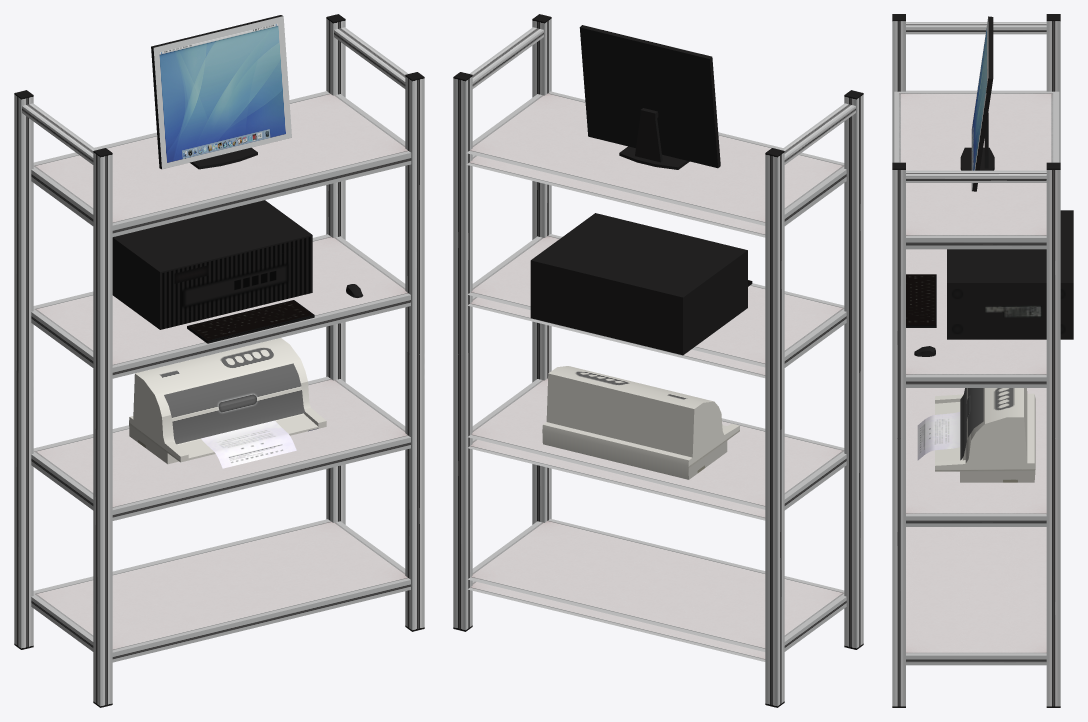
The model's file is tiejia03.FBX.
The picture shows the model from 3 angles, left to right: view 1: azimuth 30°, elevation 25°; view 2: azimuth 150°, elevation 25°; view 3: azimuth 270°, elevation 25°; orthographic projection. The views are drawn at different scales.
Visible parts, largest first — view 1: YF_Model_tiejia03; view 2: YF_Model_tiejia03; view 3: YF_Model_tiejia03.
Part boxes in pixels (x1,y1,x2,y2): YF_Model_tiejia03: (14, 14, 424, 707); YF_Model_tiejia03: (453, 14, 863, 707); YF_Model_tiejia03: (892, 14, 1073, 707).
Bounding box in the file's own units: 87.65 × 155 × 43.43.
